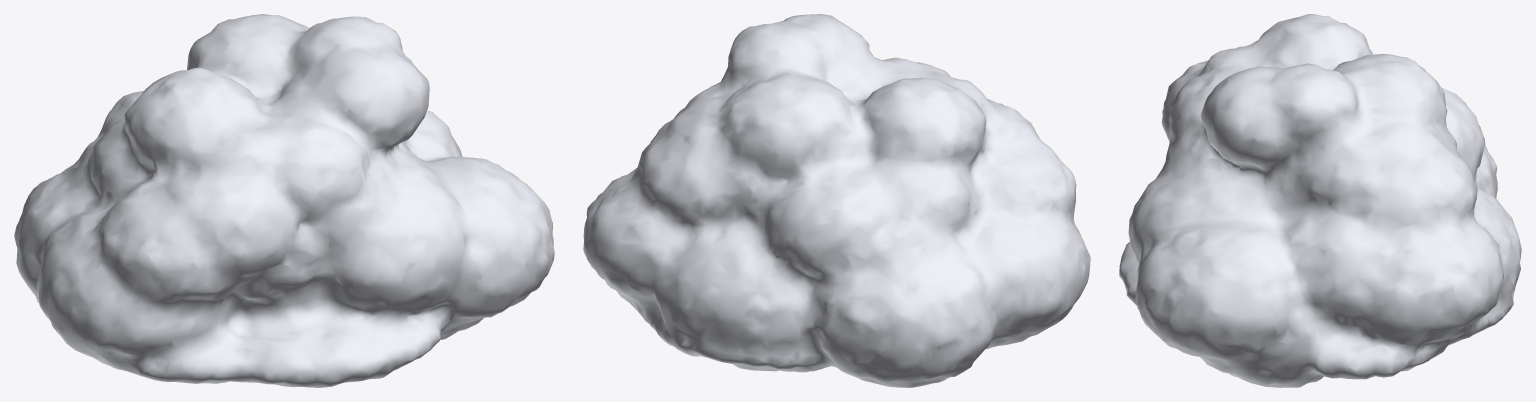
Rendered from cumulus_large.obj.
3 views of the same model, side by side, from view 1: azimuth 30°, elevation 25°; view 2: azimuth 150°, elevation 25°; view 3: azimuth 270°, elevation 25° (orthographic). The views are drawn at different scales.
Parts seen in each view (by area): view 1: cumulus_large; view 2: cumulus_large; view 3: cumulus_large.
Part boxes in pixels (left/top/right/bottom): cumulus_large: left=14, top=14, right=554, bottom=387; cumulus_large: left=583, top=14, right=1090, bottom=387; cumulus_large: left=1119, top=14, right=1521, bottom=387.
Bounding box in the file's own units: 1200 × 772 × 982.
1 material, 1 textured.
